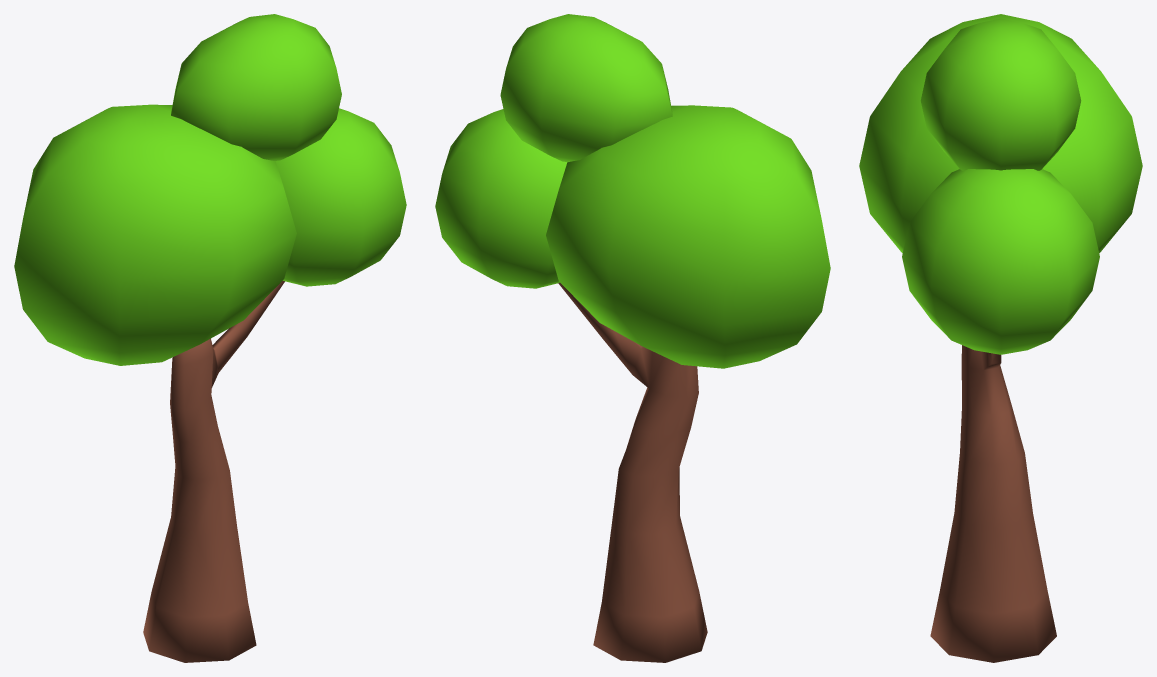
Rendered from Tree.fbx.
3 renders of one model, left to right at view 1: azimuth 30°, elevation 25°; view 2: azimuth 150°, elevation 25°; view 3: azimuth 270°, elevation 25°, orthographic. The views are drawn at different scales.
Parts seen in each view (by area): view 1: Tree 2; view 2: Tree 2; view 3: Tree 2.
Part boxes in pixels (x1=…): Tree 2: x1=14, y1=14, x2=406, y2=662; Tree 2: x1=435, y1=14, x2=830, y2=662; Tree 2: x1=859, y1=14, x2=1142, y2=662.
Size of the model in its own units: 97.26 by 145 by 57.91.
